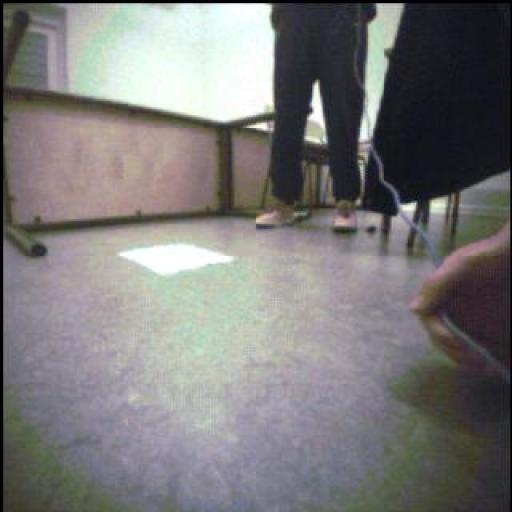Pad: (123, 240, 227, 278)
